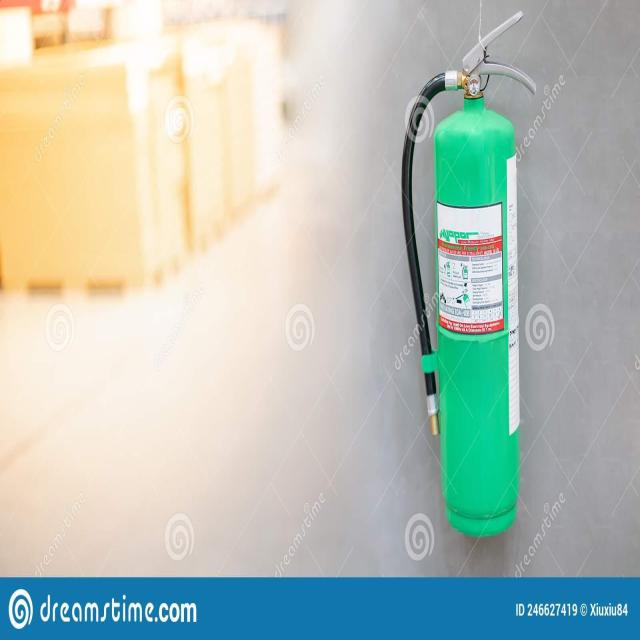fire_extinguisher: (397, 3, 543, 544)
